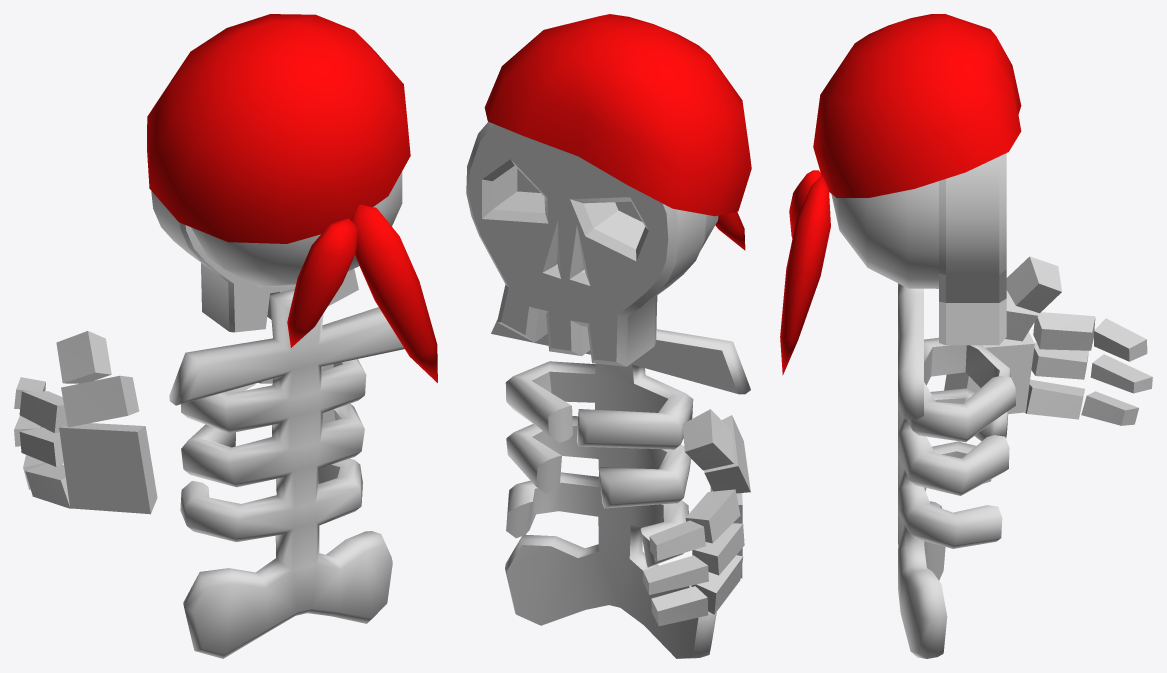
The model's file is pirate_body.obj.
3 views of the same model, side by side, from view 1: azimuth 30°, elevation 25°; view 2: azimuth 150°, elevation 25°; view 3: azimuth 270°, elevation 25° (orthographic). The views are drawn at different scales.
Parts seen in each view (by area): view 1: Line02, Sphere02, Box02, Sphere03, Line01, Sphere01, Sphere04; view 2: Line02, Line01, Sphere02, Box02, Sphere01, Sphere04; view 3: Sphere02, Line02, Box02, Line01, Sphere01, Sphere03, Sphere04.
Boxes of the visible parts, x1,y1,x2,y2 form: Line02: (169, 289, 404, 658); Sphere02: (147, 14, 410, 243); Box02: (14, 331, 157, 514); Sphere03: (351, 204, 437, 382); Line01: (151, 191, 358, 332); Sphere01: (191, 171, 402, 287); Sphere04: (287, 218, 357, 347); Line02: (491, 319, 750, 658); Line01: (466, 122, 707, 366); Sphere02: (484, 14, 751, 216); Box02: (643, 409, 750, 626); Sphere01: (517, 169, 718, 250); Sphere04: (715, 212, 745, 250); Sphere02: (813, 14, 1021, 197); Line02: (898, 283, 1015, 658); Box02: (944, 256, 1152, 425); Line01: (939, 153, 1006, 345); Sphere01: (831, 181, 938, 288); Sphere03: (780, 175, 830, 375); Sphere04: (789, 170, 821, 238).
Size of the model in its own units: 11.09 by 20.73 by 11.79.
